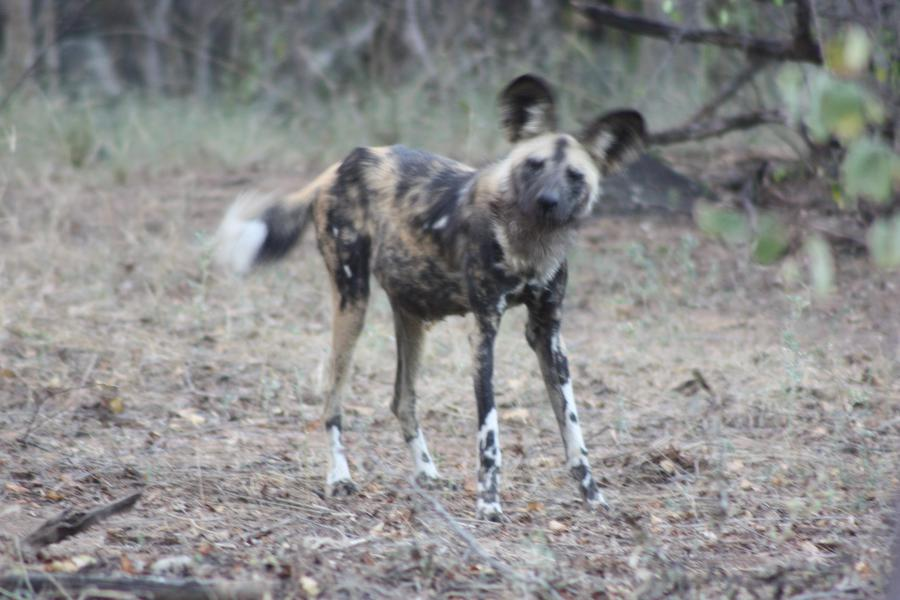wilddog: (307, 152, 547, 345)
